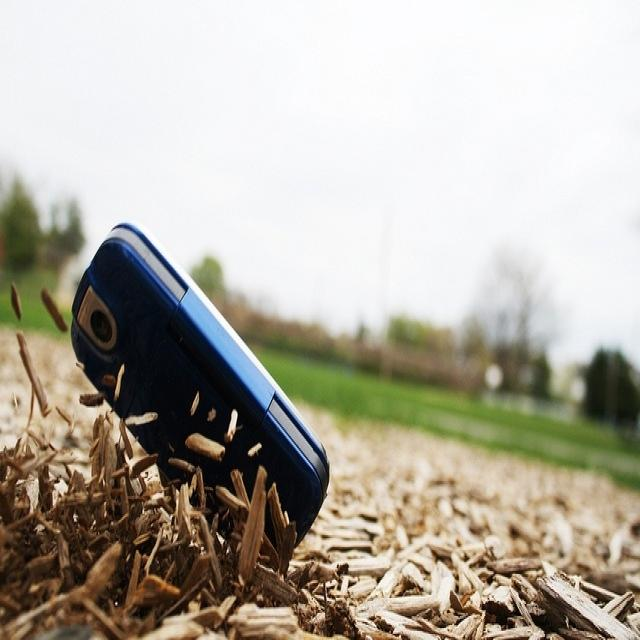E-waste: (64, 223, 382, 555)
